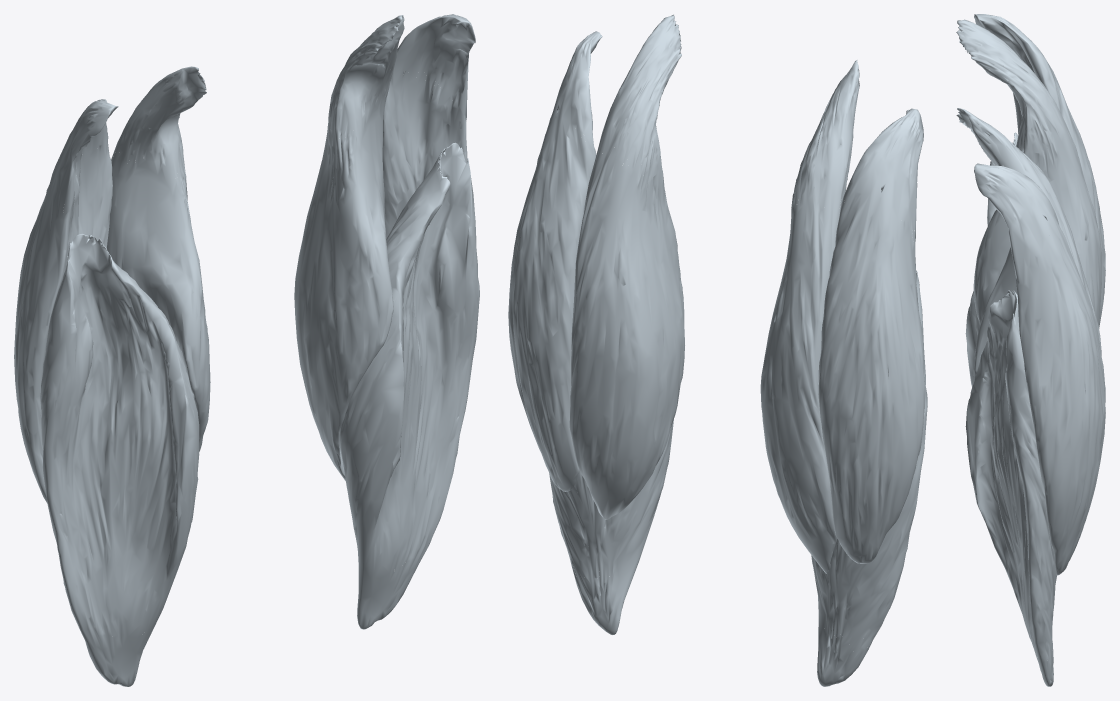
The model's file is mollet.glb.
The picture shows the model from 3 angles, left to right: view 1: azimuth 30°, elevation 25°; view 2: azimuth 150°, elevation 25°; view 3: azimuth 270°, elevation 25°; orthographic projection. The views are drawn at different scales.
Visible parts, largest first — view 1: mollet; view 2: mollet; view 3: mollet.
Boxes of the visible parts, bbox=[...] form: mollet: bbox=[14, 14, 479, 686]; mollet: bbox=[508, 14, 927, 686]; mollet: bbox=[956, 14, 1105, 686].
Size of the model in its own units: 0.2692 by 0.3724 by 0.0883.
